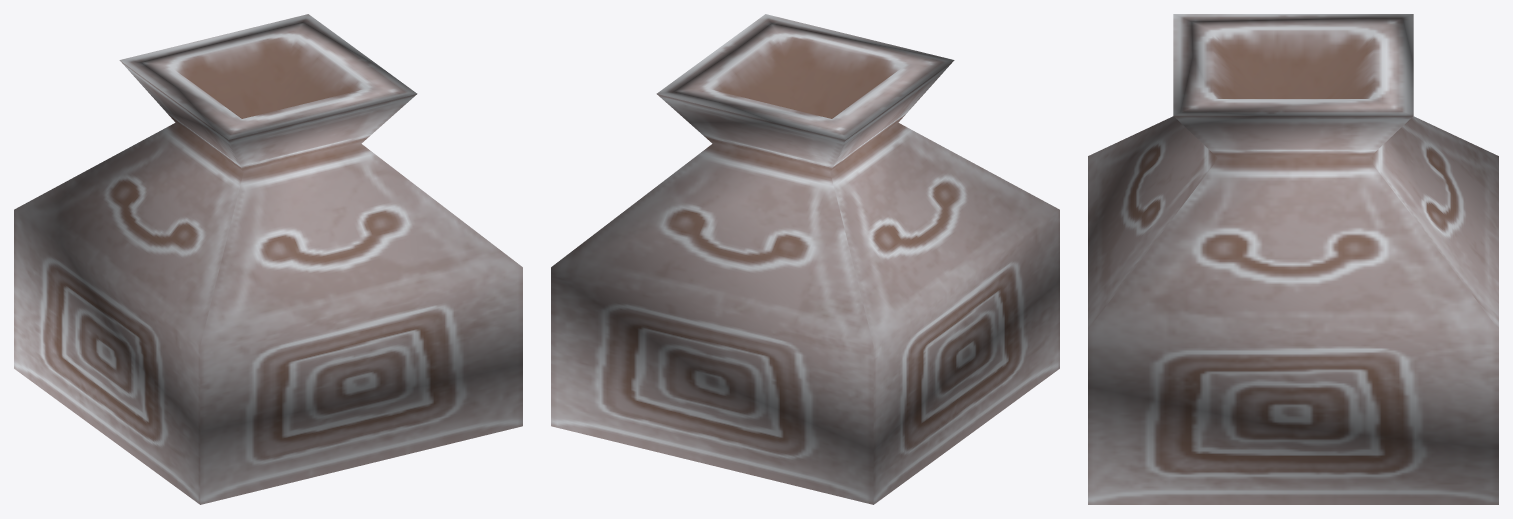
The model's file is Asset_Vase_C_01.fbx.
3 views of the same model, side by side, from view 1: azimuth 30°, elevation 25°; view 2: azimuth 150°, elevation 25°; view 3: azimuth 270°, elevation 25° (orthographic). The views are drawn at different scales.
Parts seen in each view (by area): view 1: Asset_Vase_C_01; view 2: Asset_Vase_C_01; view 3: Asset_Vase_C_01.
Boxes of the visible parts, x1,y1,x2,y2 form: Asset_Vase_C_01: (14, 14, 522, 504); Asset_Vase_C_01: (551, 14, 1059, 504); Asset_Vase_C_01: (1088, 14, 1498, 504).
Size of the model in its own units: 534 by 507 by 534.
